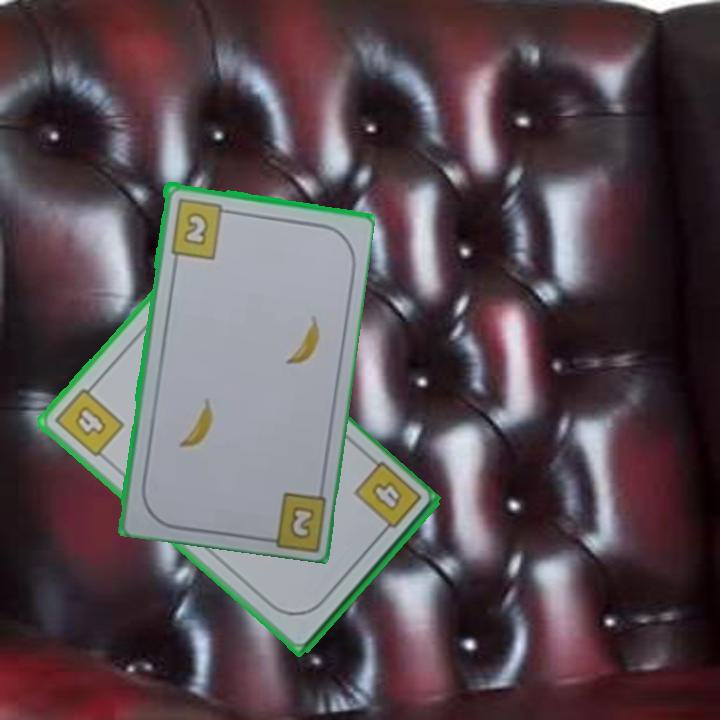2b: (166, 194, 234, 261), (288, 505, 314, 538)
4b: (51, 379, 128, 460), (350, 458, 425, 541)
